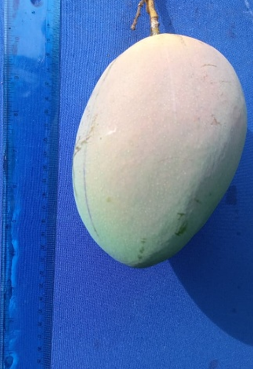Mango-sano: (72, 34, 246, 266)
